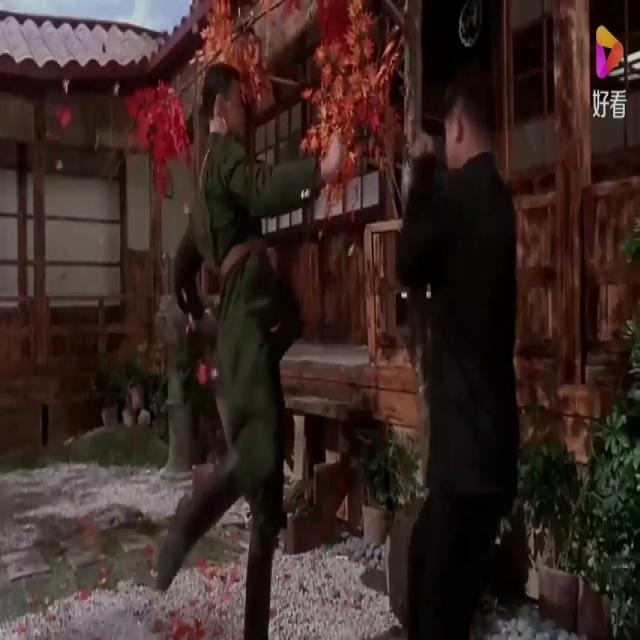fight: (151, 61, 520, 640)
